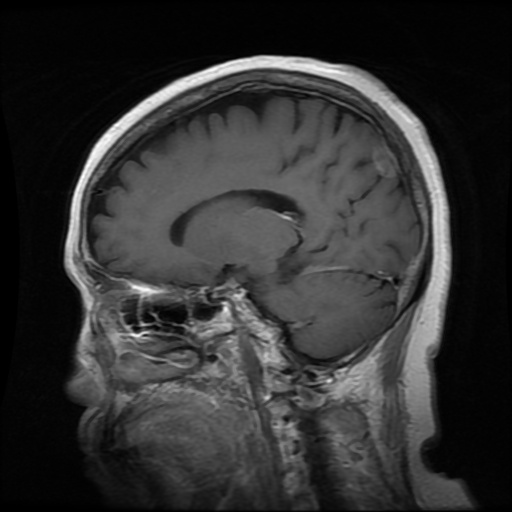meningioma: (372, 142, 399, 177)
